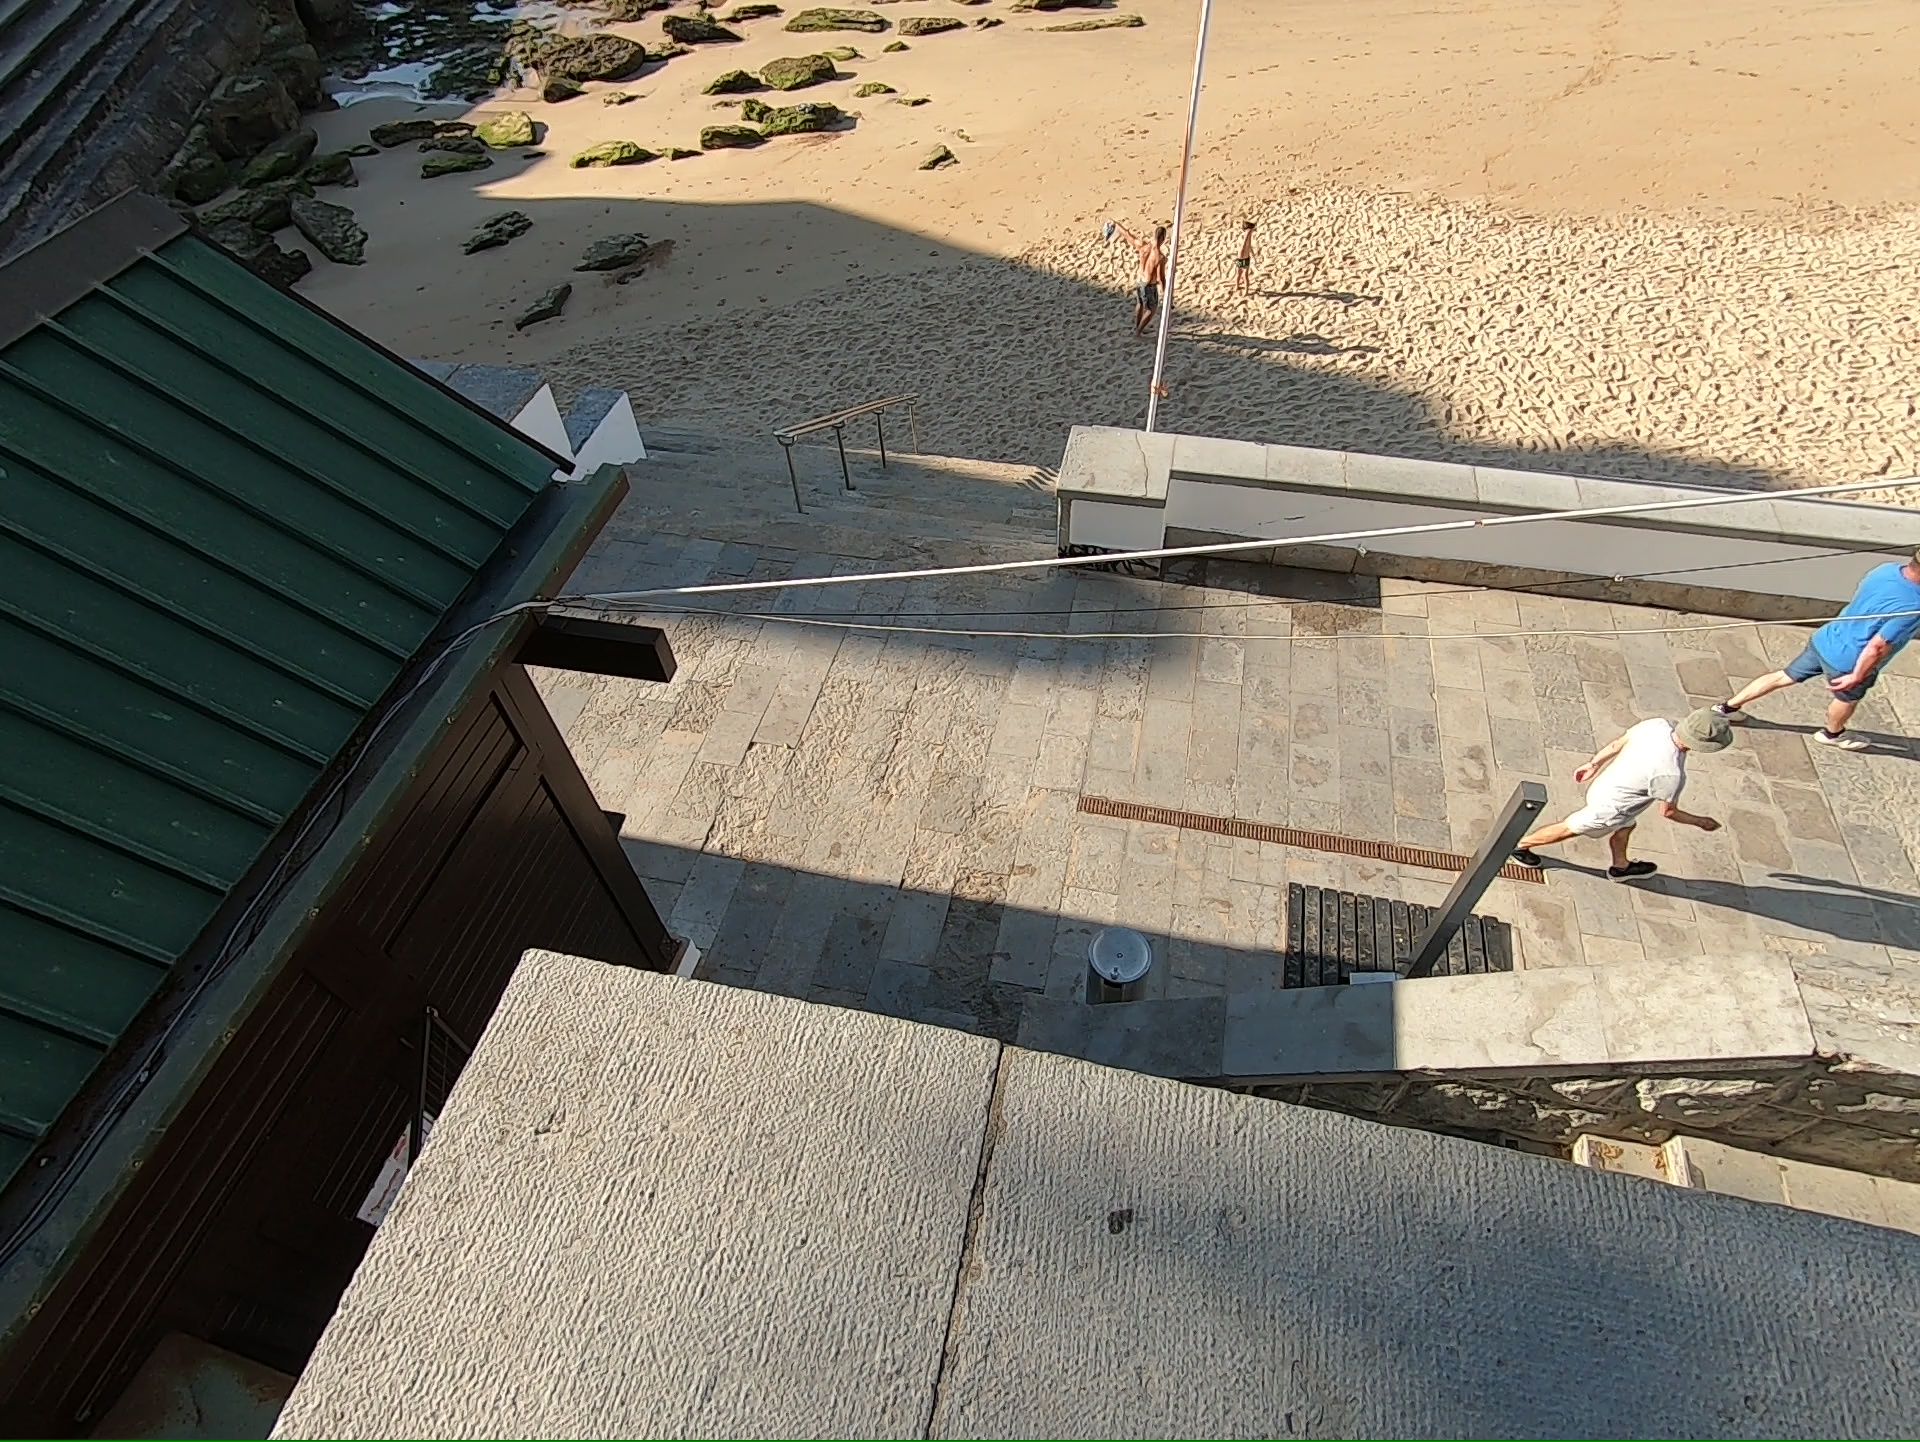person: (1551, 710, 1741, 882), (1823, 551, 1909, 750), (1134, 218, 1164, 327), (1232, 214, 1255, 293)
